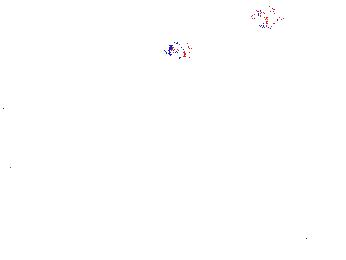X-ray fish: (163, 38, 208, 61), (251, 4, 286, 30)
